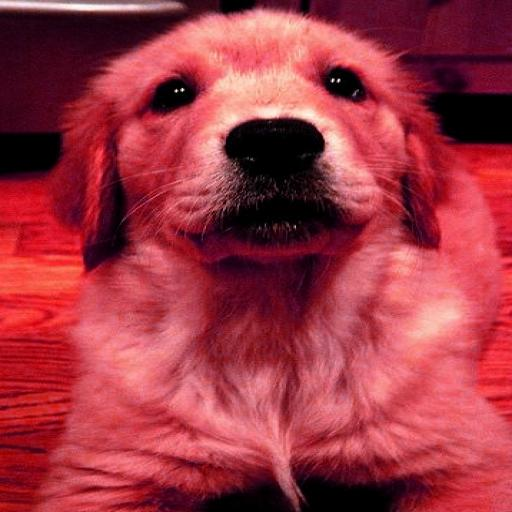dog_face: (59, 16, 410, 266)
